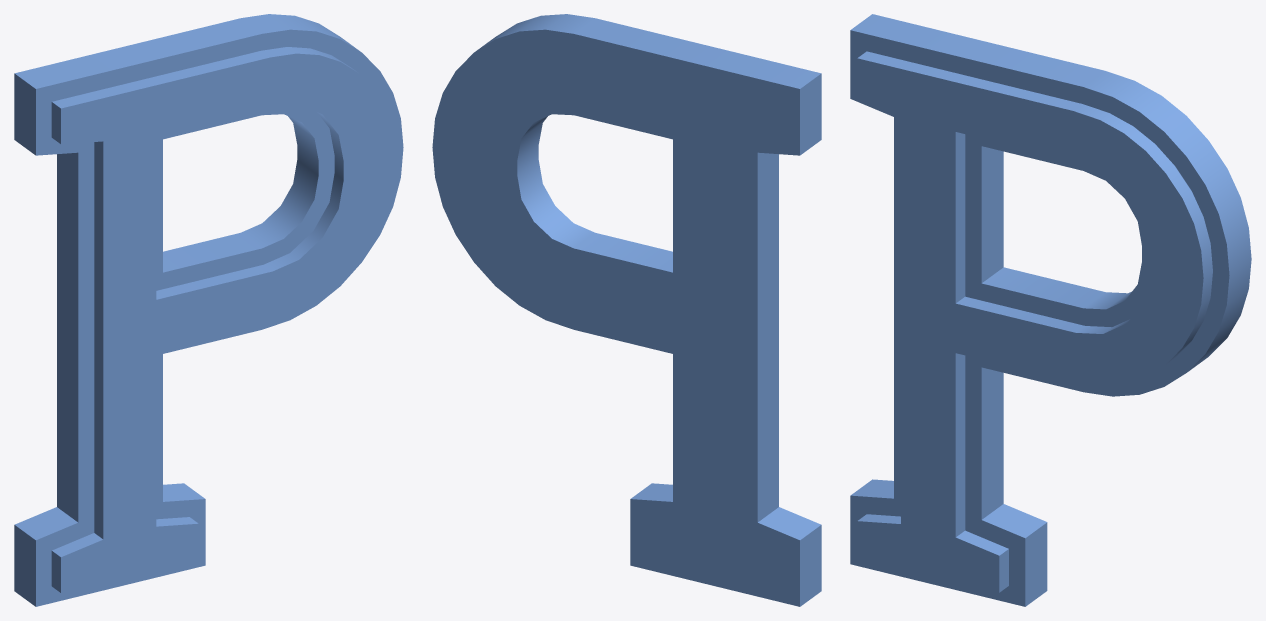
File: uploads_files_2164737_P1.FBX
3 views of the same model, side by side, from view 1: azimuth 30°, elevation 25°; view 2: azimuth 150°, elevation 25°; view 3: azimuth 330°, elevation 25° (orthographic). The views are drawn at different scales.
Parts seen in each view (by area): view 1: P; view 2: P; view 3: P.
Part boxes in pixels (left/top/right/bottom): P: left=14, top=14, right=403, bottom=606; P: left=432, top=14, right=821, bottom=606; P: left=850, top=14, right=1251, bottom=606.
Size of the model in its own units: 3.47 by 4.67 by 0.5.
